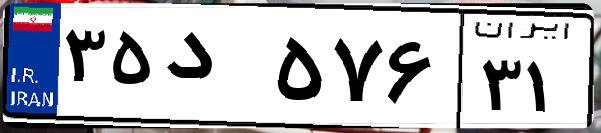1: (525, 38, 570, 115)
3: (57, 26, 110, 100), (475, 38, 525, 113)
5: (270, 28, 330, 110), (110, 28, 158, 98)
6: (385, 28, 445, 110)
7: (330, 28, 385, 110)
د: (158, 20, 270, 120)
